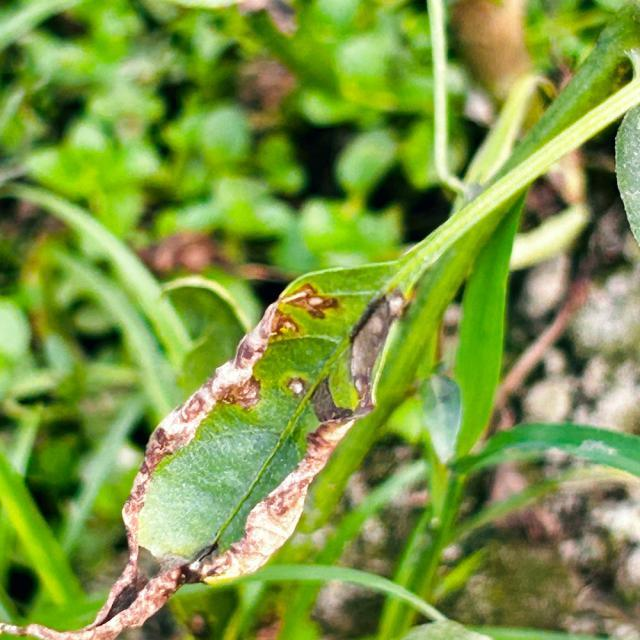Bercak Daun Serkospora: (0, 259, 426, 640)
